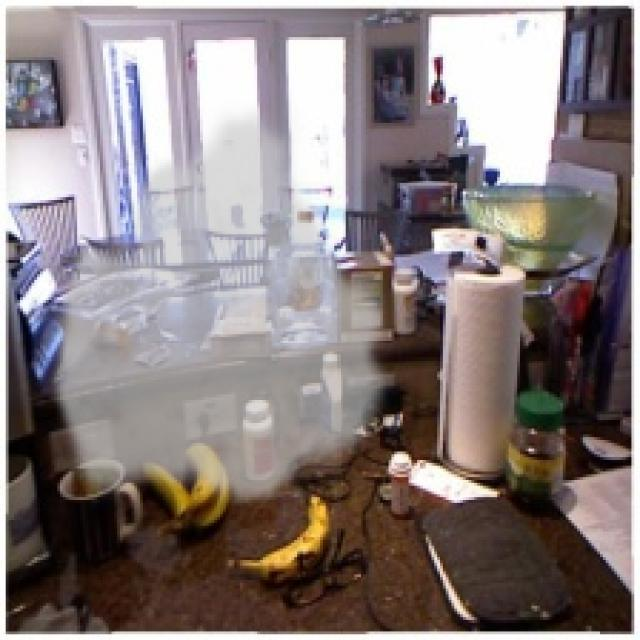Smoke: (49, 100, 398, 509)
